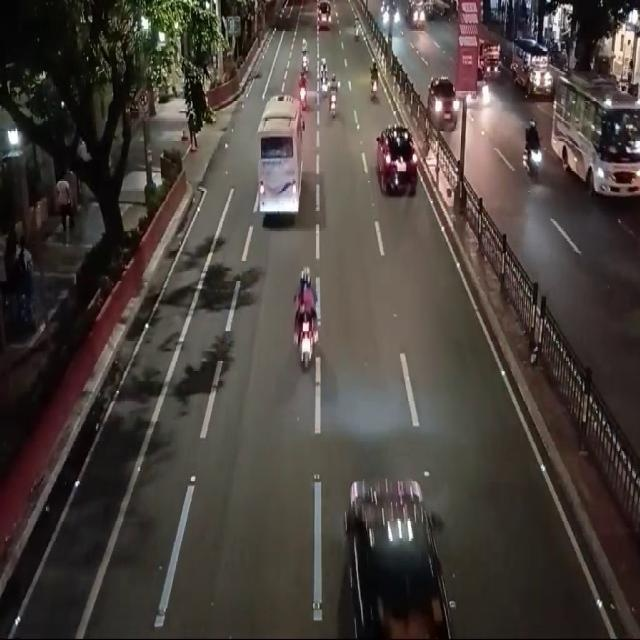car: (369, 113, 424, 212)
jeepney: (543, 49, 640, 206), (251, 90, 307, 236)
motorcycle: (287, 259, 321, 374), (519, 116, 548, 184), (364, 52, 381, 105), (296, 34, 312, 80), (327, 73, 341, 121), (317, 51, 328, 97)
